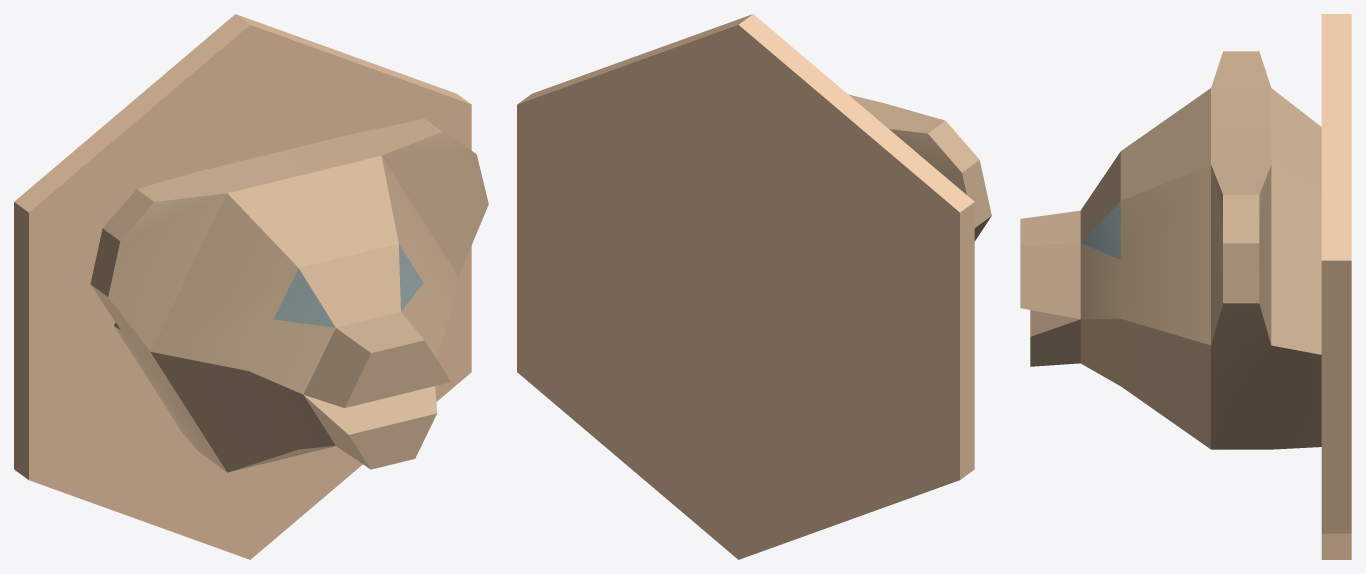
The model's file is bear.glb.
3 views of the same model, side by side, from view 1: azimuth 30°, elevation 25°; view 2: azimuth 150°, elevation 25°; view 3: azimuth 270°, elevation 25° (orthographic). The views are drawn at different scales.
Visible parts, largest first — view 1: bear; view 2: bear; view 3: bear.
Boxes of the visible parts, x1=… form: bear: x1=14, y1=14, x2=488, y2=559; bear: x1=517, y1=14, x2=991, y2=559; bear: x1=1020, y1=14, x2=1351, y2=559.
Bounding box in the file's own units: 0.3897 × 0.45 × 0.2475.
